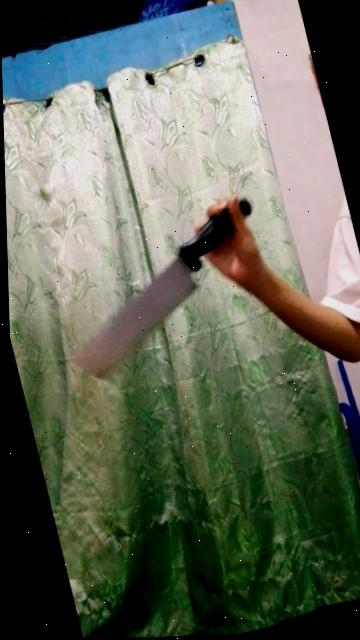long knife: (40, 193, 292, 387)
